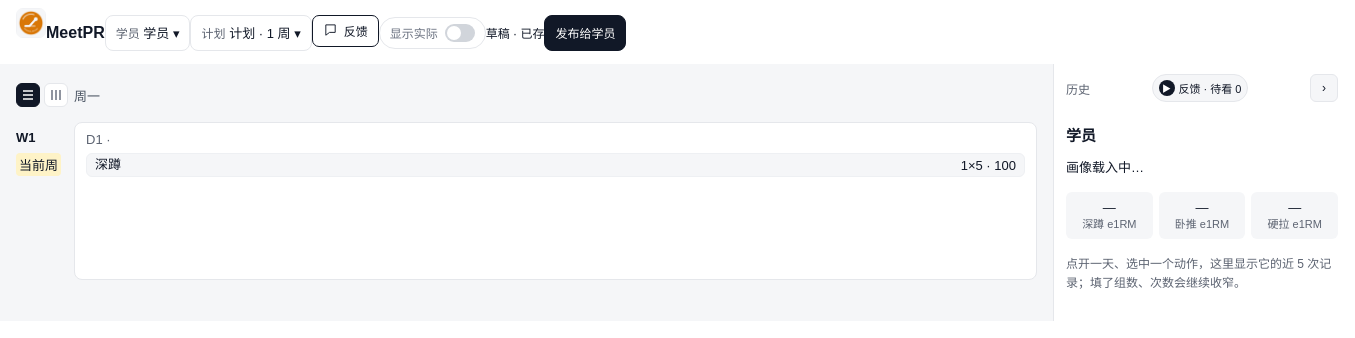
Test: PlanEditor save failure reasons › shows rejected reason and validation path when publishing cannot save
Click the button "发布给学员".
click(585, 32)  # box [544,14,626,50]
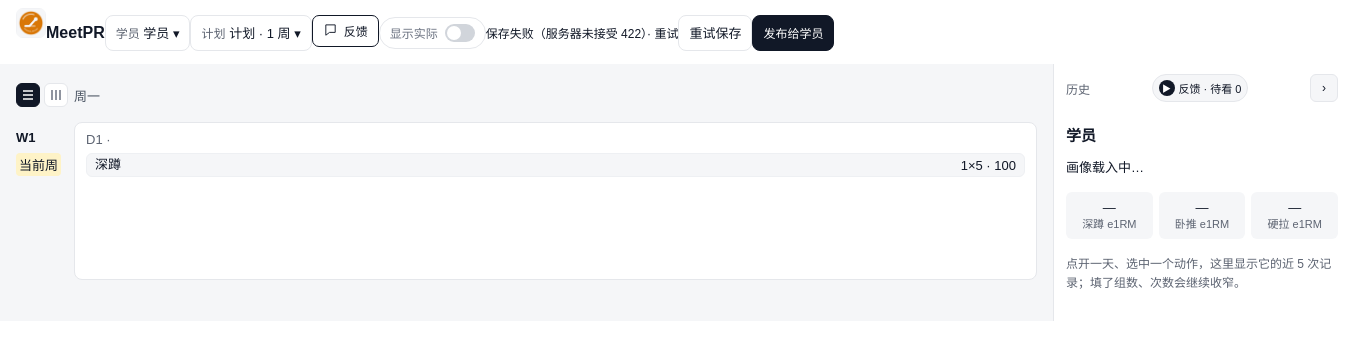
Expected: the text "保存失败（服务器未接受 422）· 重试" is shown, [486,27,678,41]
